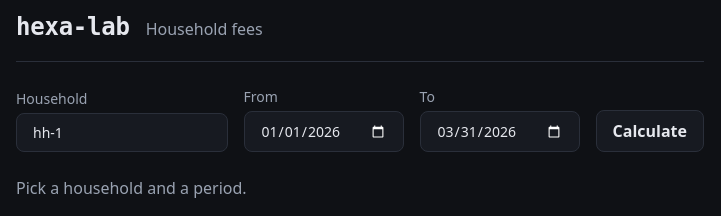
loading: Calculating… in an aria-busy element
Click the button "Calculate" at (650, 131), box [596, 110, 704, 152]
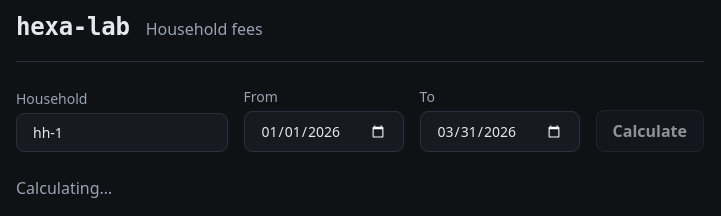
expect the text "Pick a household and a period." is gone: met
